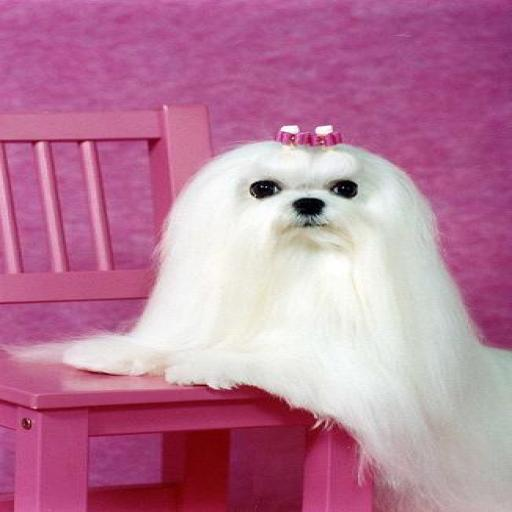dog_face: (182, 130, 429, 264)
